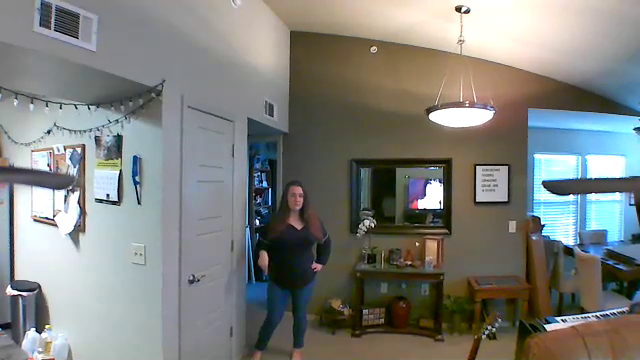down: (254, 247, 272, 284)
